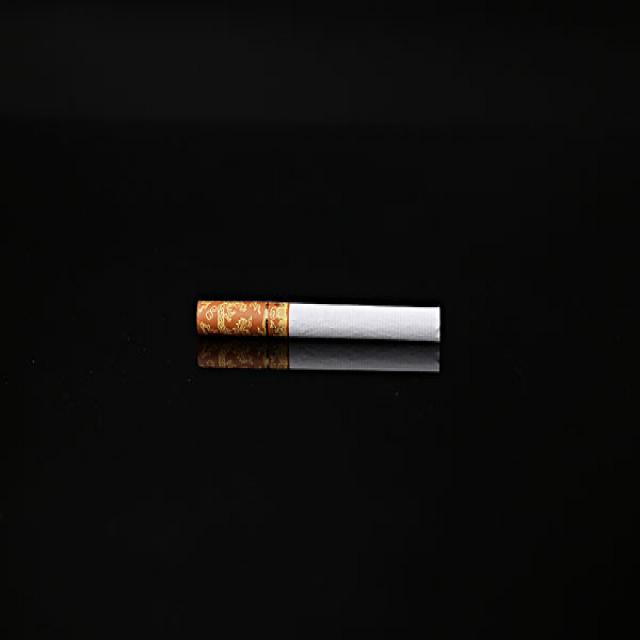smoking: (196, 300, 442, 337), (197, 346, 446, 371)
